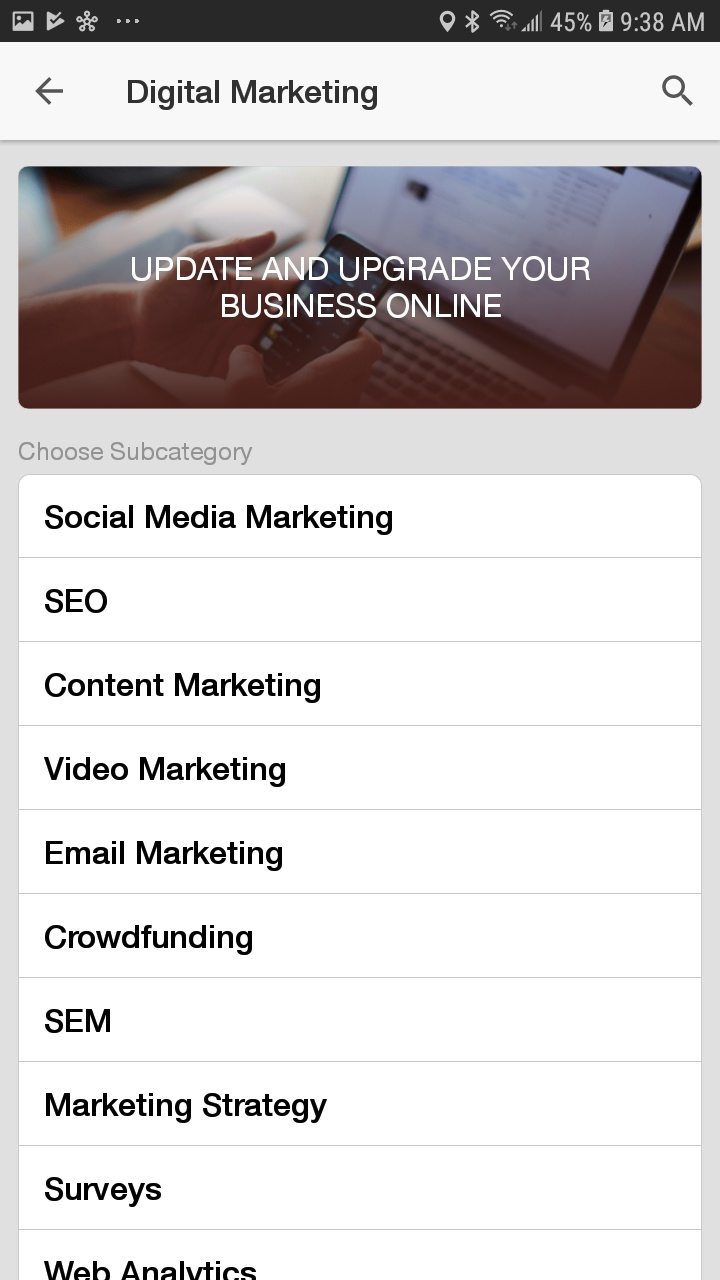Icon: (661, 74, 694, 106), (36, 77, 65, 106)
Image: (18, 167, 702, 410)
Text: (129, 252, 590, 321), (45, 504, 393, 536), (46, 1092, 328, 1124), (45, 672, 321, 704), (128, 80, 378, 112), (44, 756, 286, 788), (46, 840, 283, 872), (45, 924, 253, 956), (19, 441, 254, 466), (44, 1260, 257, 1280), (46, 1177, 163, 1208), (45, 1008, 111, 1034), (46, 588, 109, 614)
UpperTaskBar: (1, 1, 720, 43)
